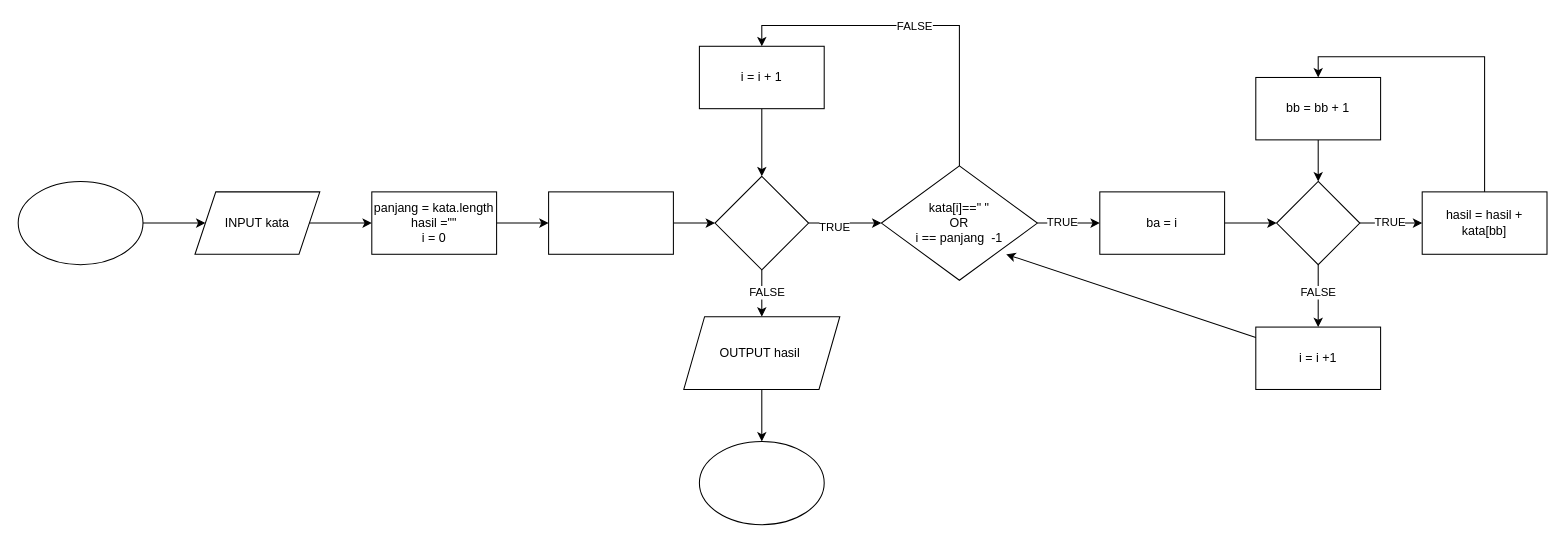
Some shapes in this 1565 by 543 pixel diagram are drawn without their labels. The shapes that lost their labels are listed below. From the top down, each one's centre as x and y in pixels, then its label:
At point 80,222: "Mulai".
At point 610,222: "ba = 0 bb = 0".
At point 761,222: "i =< panjang".
At point 1318,222: "ba > bb".
At point 761,482: "end".
